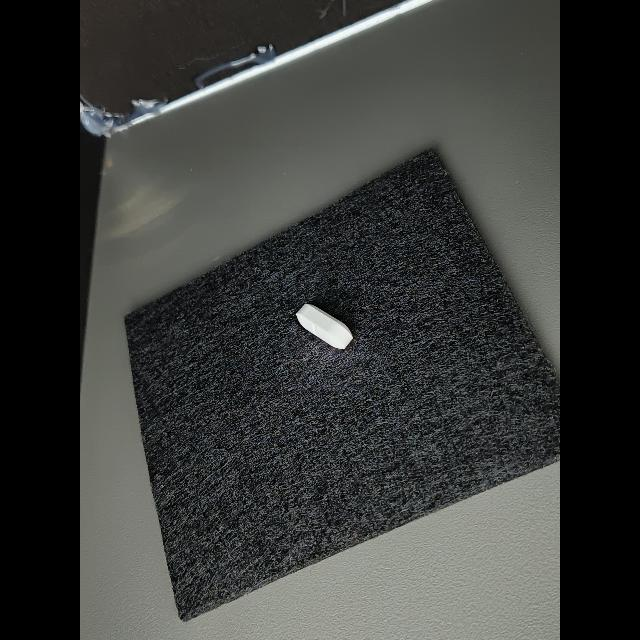Intact Pill: (296, 304, 353, 349)
